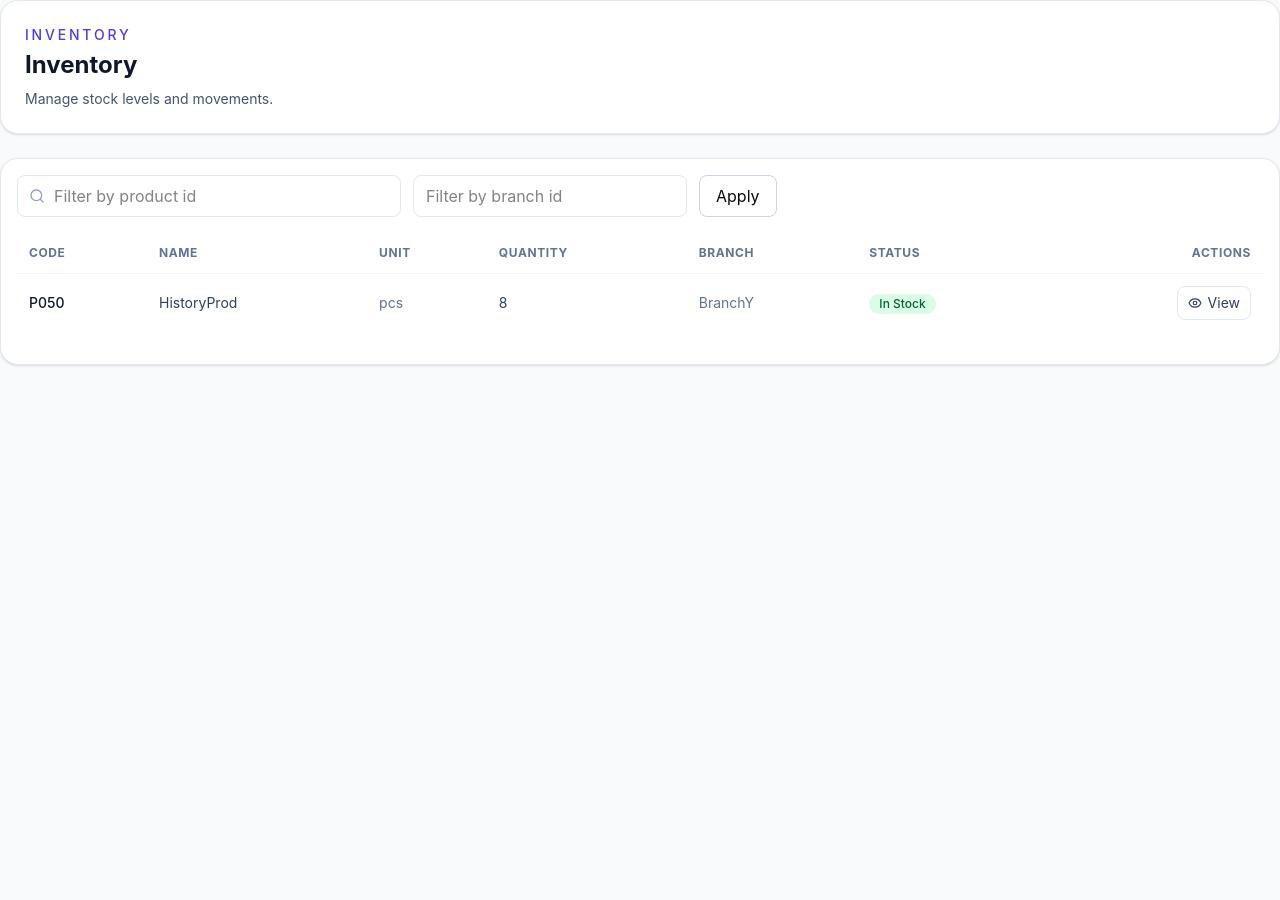
InventoryPage › shows stock movement history in the inventory detail dialog
This screenshot has width=1280, height=900.
Expected: the text "HistoryProd" is shown, [147,274,367,332]
Click the button "View": (1214, 303) [1177,286,1251,320]
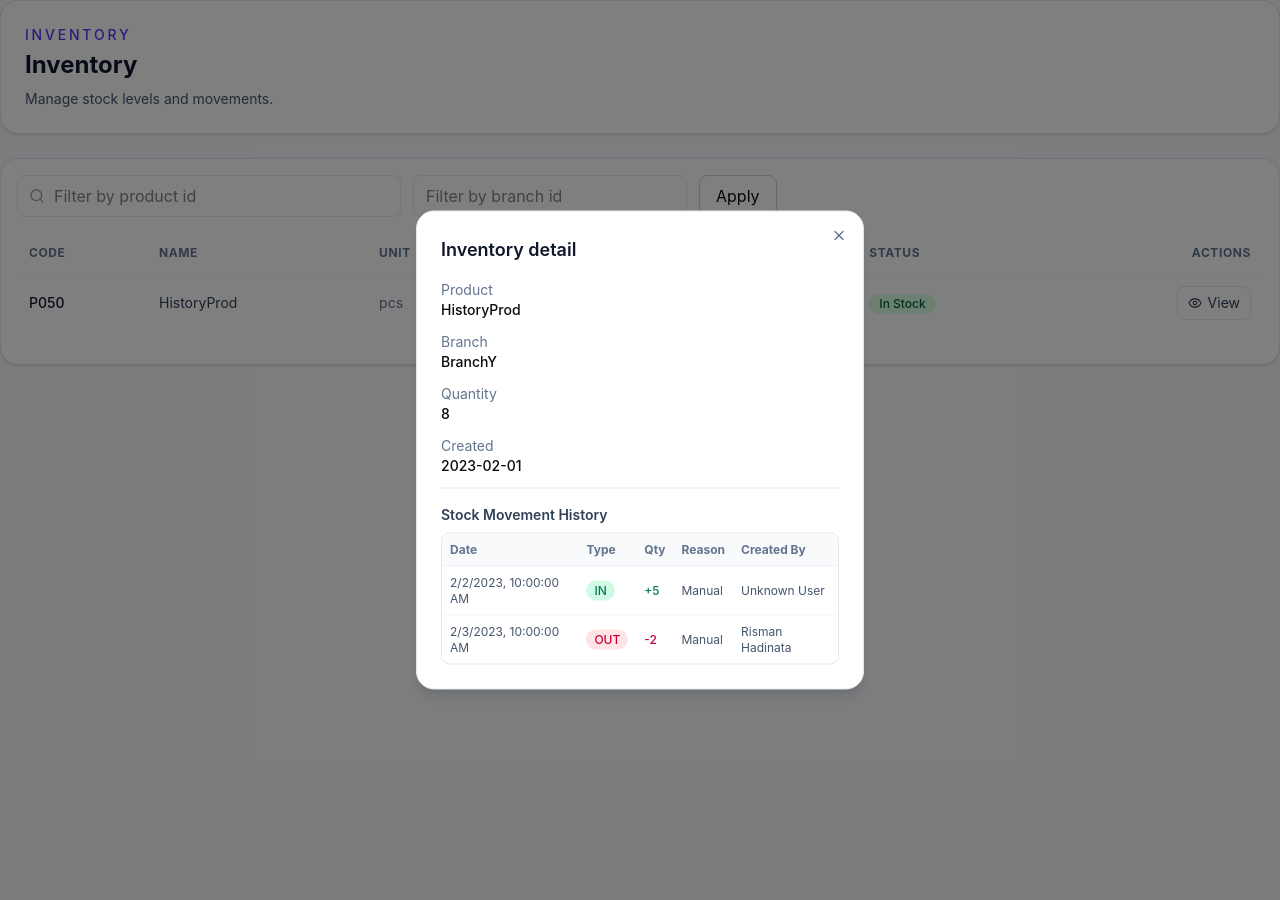
Now the text "Stock Movement History" is shown, box [441,506,608,522]
Now the text "IN" is shown, box [586,580,615,600]
Now the text "OUT" is shown, box [586,630,628,650]
